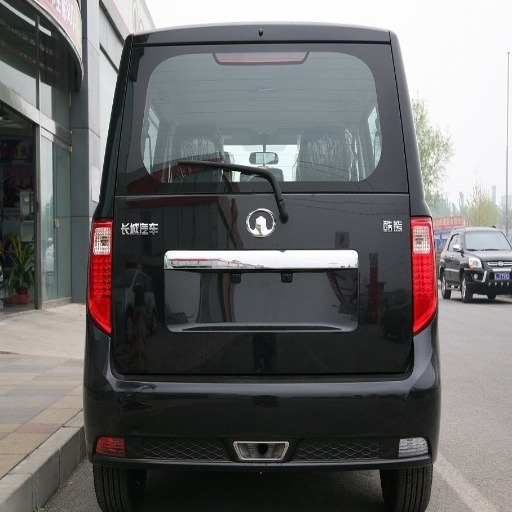back_bumper: (92, 317, 441, 462)
tailgate: (119, 168, 401, 366)
trunk: (117, 197, 408, 370), (120, 221, 161, 284)
